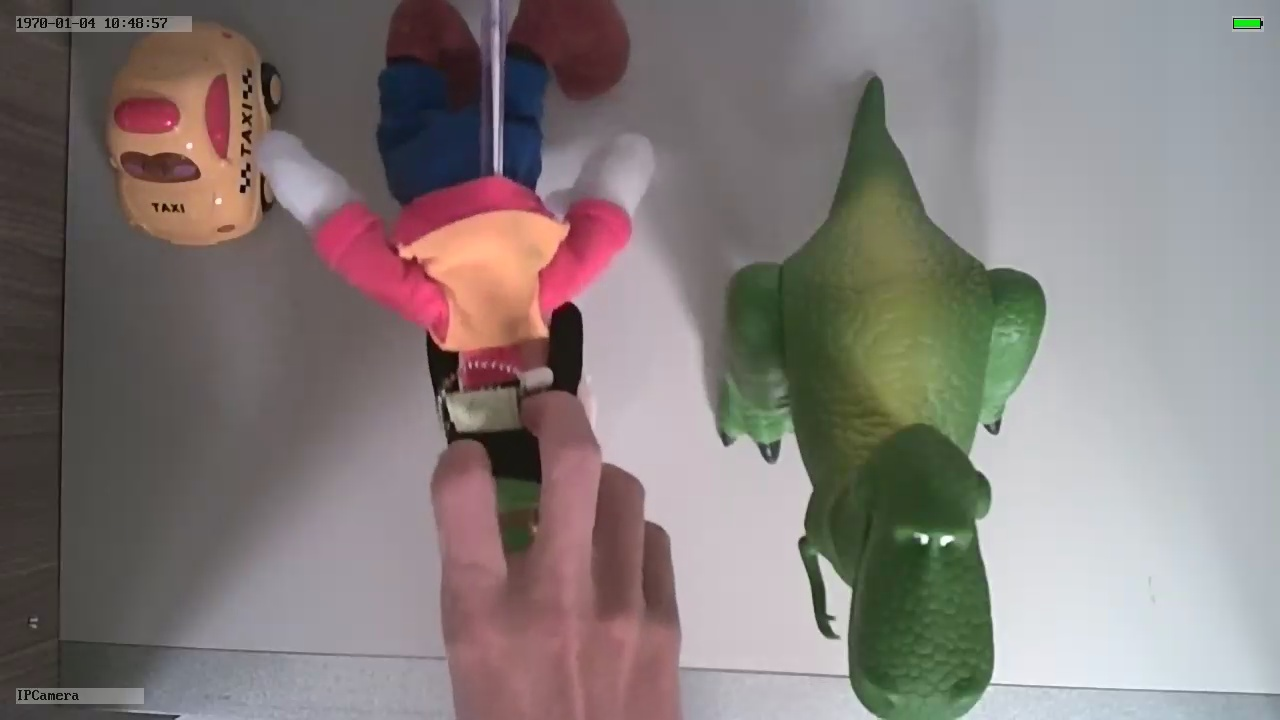car: (102, 23, 284, 244)
rex: (718, 160, 1044, 720)
